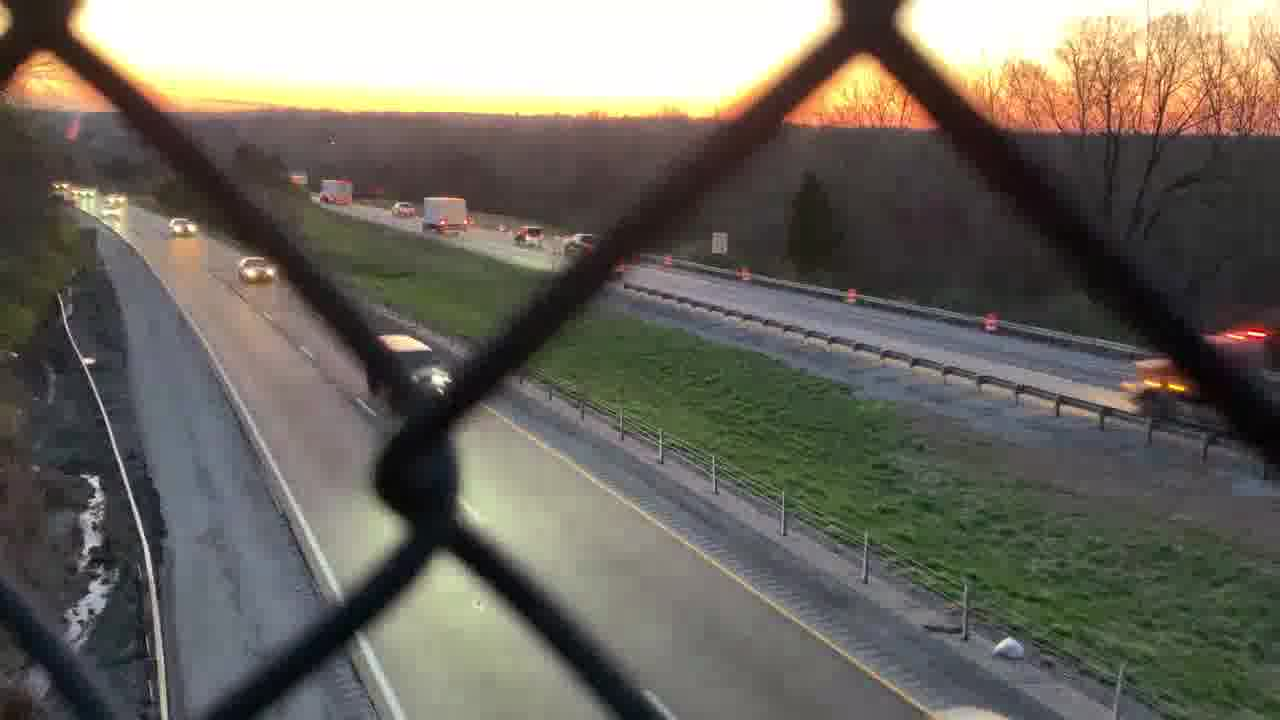heavyTruck: (412, 192, 466, 233)
